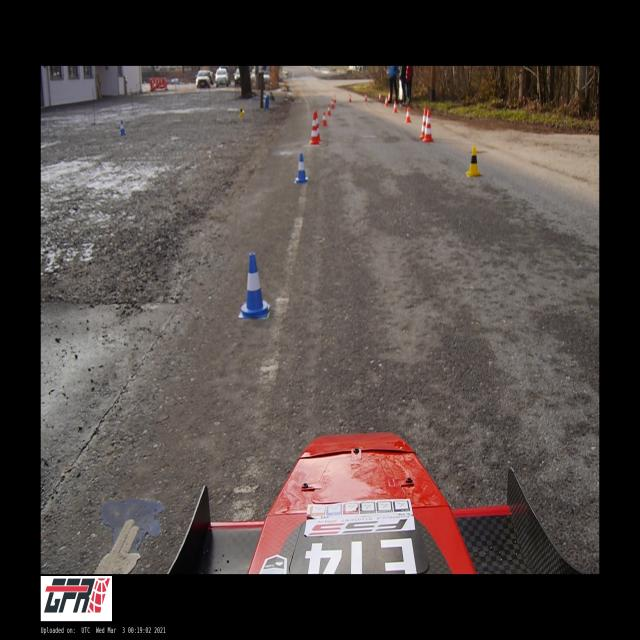blue_cone: (239, 252, 270, 318), (294, 154, 309, 184), (118, 120, 126, 134), (266, 90, 269, 98)
large_orange_cone: (422, 110, 433, 142), (309, 113, 320, 144), (420, 109, 427, 138), (314, 110, 320, 140)
orange_cone: (406, 108, 411, 122), (322, 112, 327, 125), (327, 104, 331, 116), (393, 100, 397, 112), (378, 92, 382, 101), (348, 94, 352, 102), (385, 96, 388, 106), (364, 94, 368, 101), (333, 95, 336, 103), (332, 99, 334, 109)
yellow_cone: (466, 146, 481, 177), (238, 105, 244, 117)
